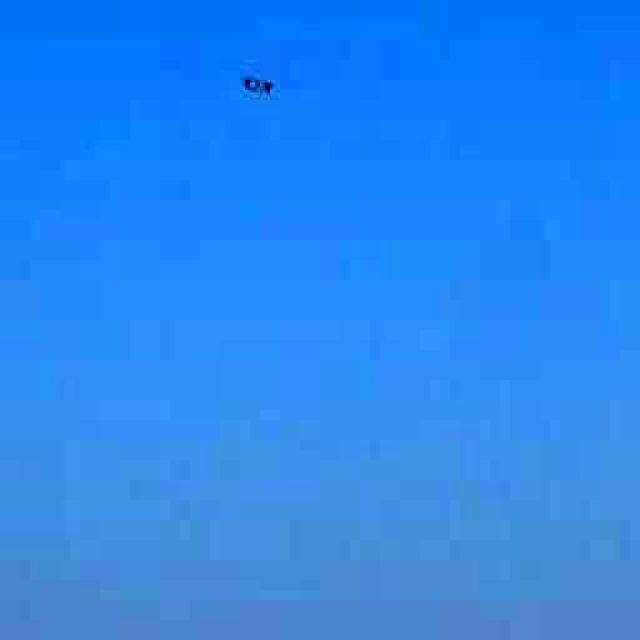bird: (204, 31, 301, 129)
